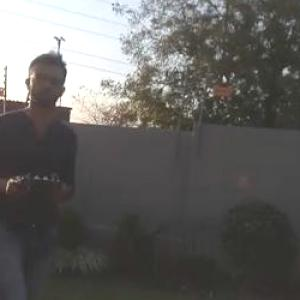follow: (0, 43, 82, 299)
